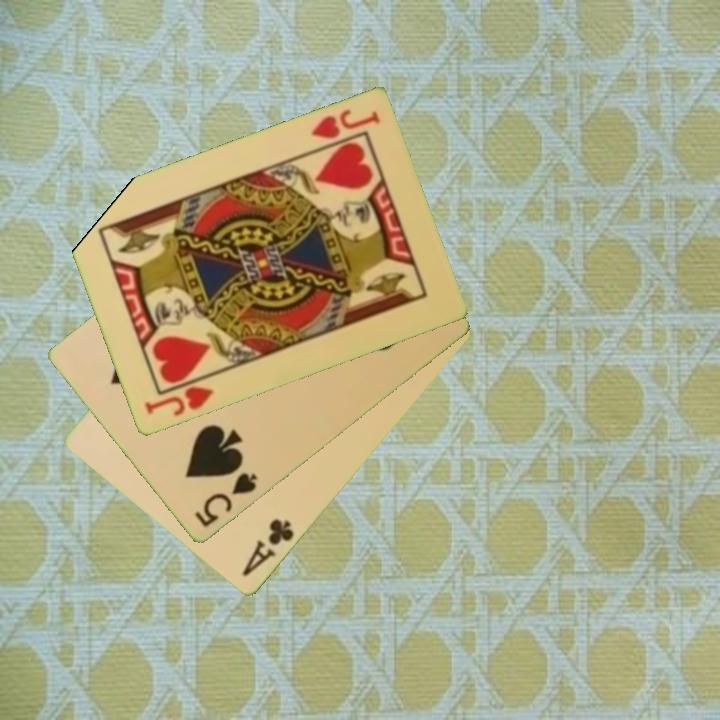5s: (190, 469, 260, 531)
Ac: (238, 515, 298, 580)
Jh: (140, 371, 217, 420), (307, 106, 383, 143)
